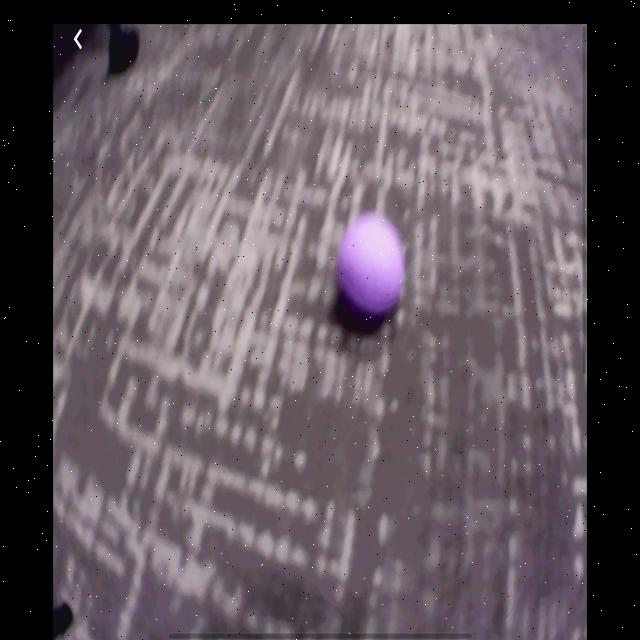ball: (336, 211, 407, 326)
